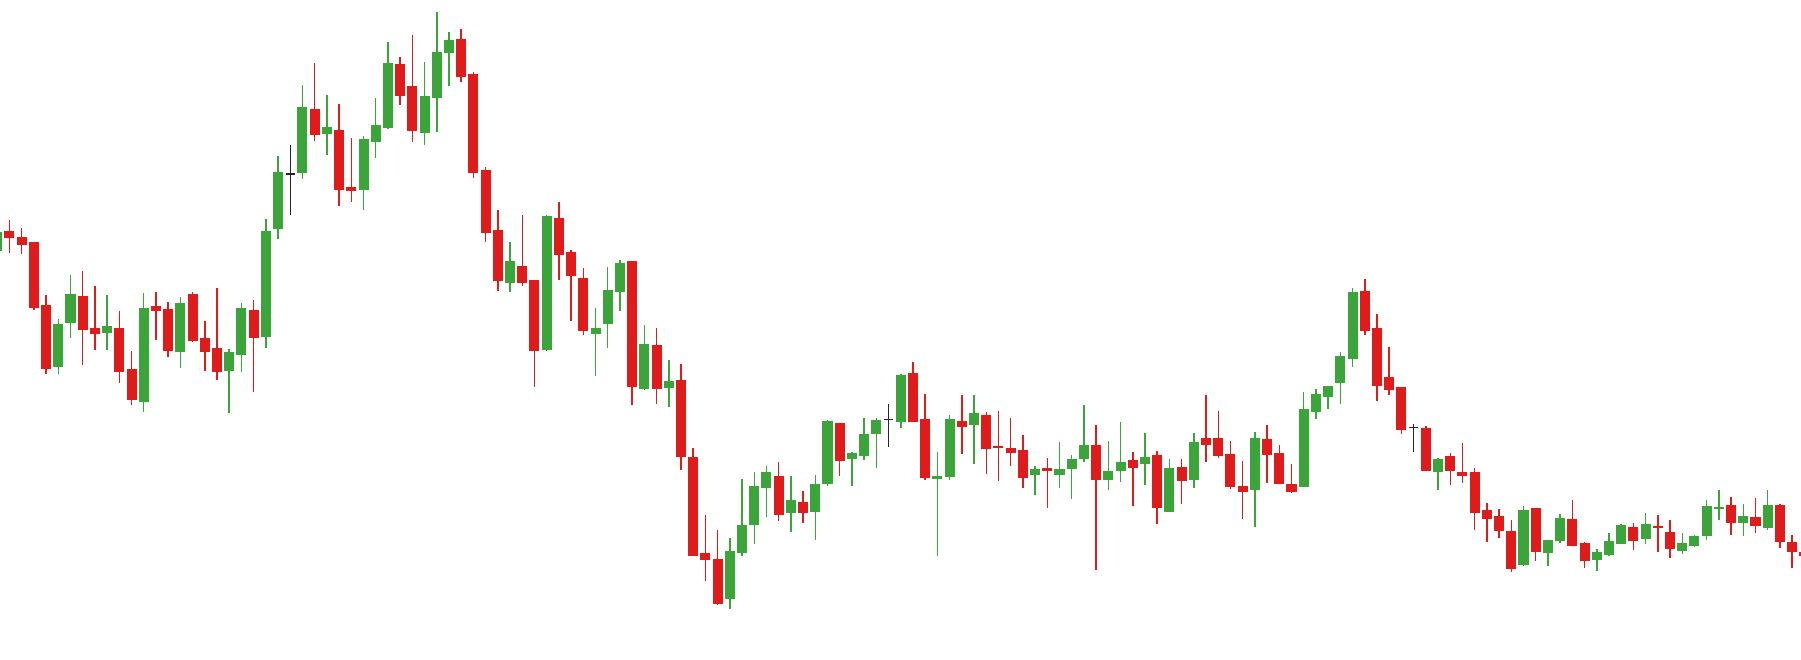buy: (809, 413, 944, 561), (38, 306, 153, 411)
sell: (380, 16, 469, 118)
